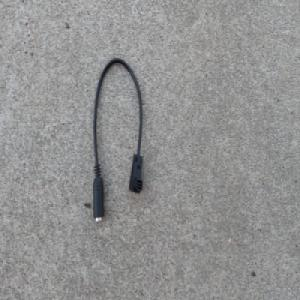Wire: (90, 56, 143, 225)
